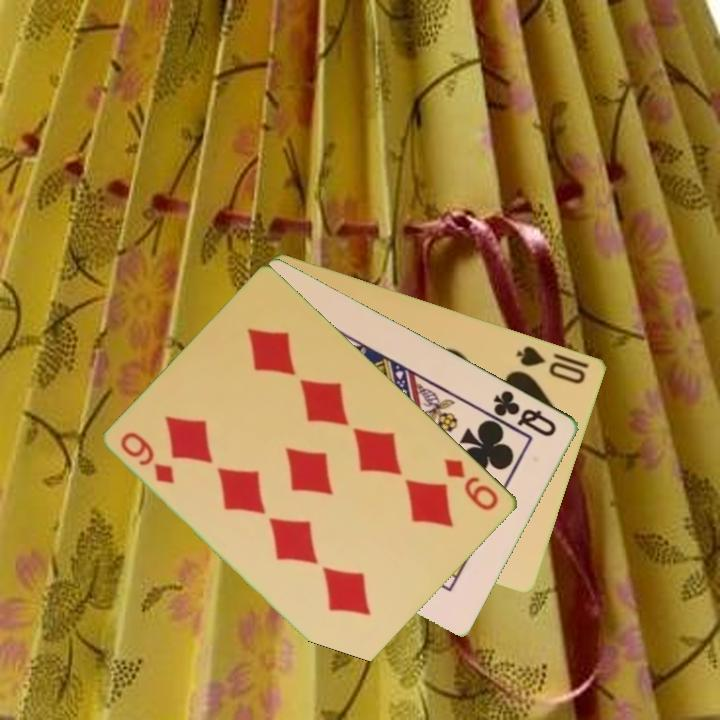10s: (513, 341, 589, 387)
9d: (441, 455, 502, 514), (117, 428, 178, 487)
Qc: (490, 386, 561, 440)
